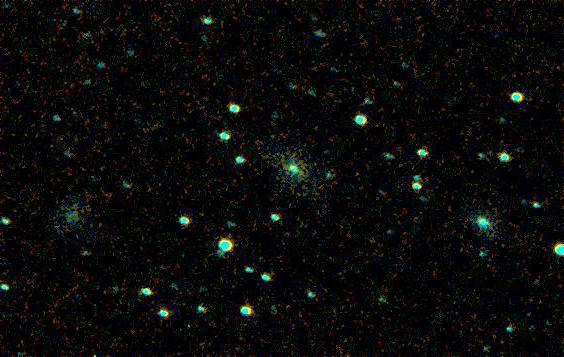star: (522, 190, 552, 220)
